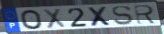2: (67, 7, 89, 28)
O: (19, 9, 45, 31)
R: (133, 4, 158, 25)
S: (111, 5, 134, 26)
X: (86, 6, 115, 27), (42, 8, 68, 30)
